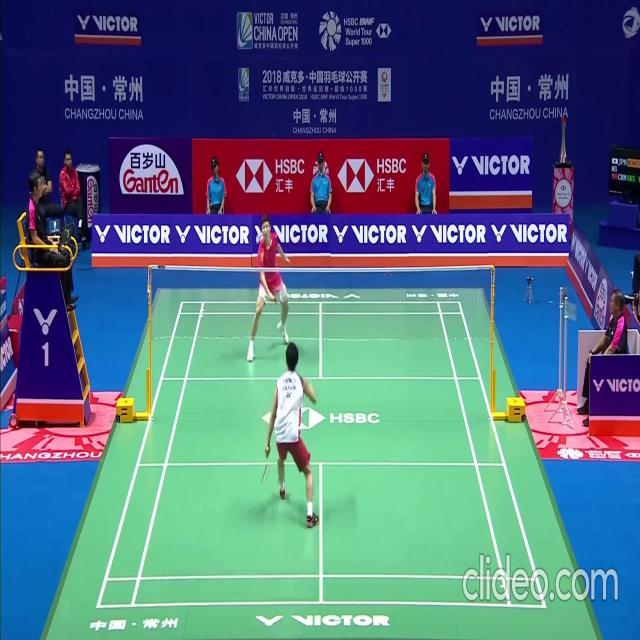Shuttlecock: (256, 233, 261, 241)
